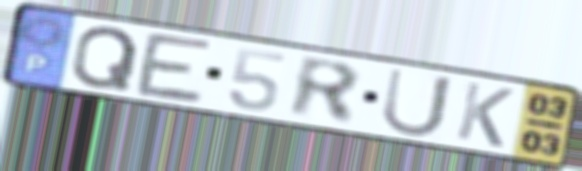5: (225, 45, 288, 113)
E: (132, 29, 217, 107)
K: (452, 79, 517, 150)
Q: (68, 24, 143, 92)
R: (287, 53, 364, 129)
U: (379, 65, 456, 140)
